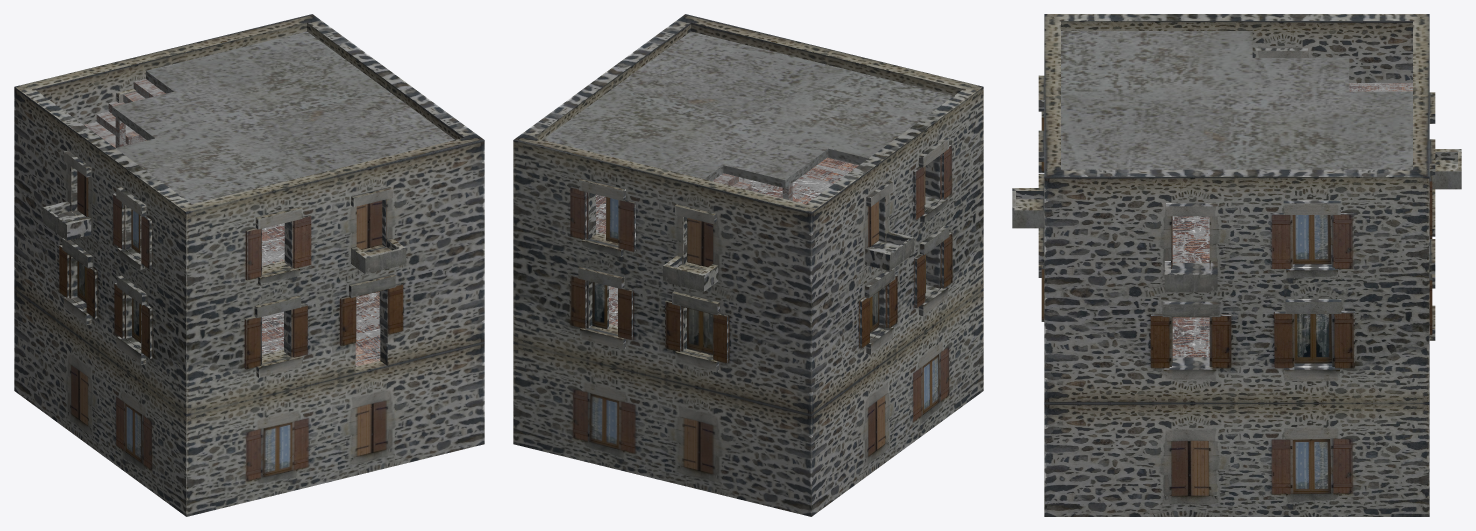
Rendered from BagBuilding15High.fbx.
3 renders of one model, left to right at view 1: azimuth 30°, elevation 25°; view 2: azimuth 150°, elevation 25°; view 3: azimuth 270°, elevation 25°, orthographic. The views are drawn at different scales.
Parts seen in each view (by area): view 1: main300, mainFlip300, roof300, stairs300; view 2: main300, mainFlip300, roof300, stairs300; view 3: mainFlip300, roof300, main300, stairs300.
Boxes of the visible parts, x1,y1,x2,y2 form: main300: [14, 14, 484, 516]; mainFlip300: [14, 22, 380, 516]; roof300: [112, 31, 454, 203]; stairs300: [84, 79, 380, 366]; main300: [513, 14, 983, 516]; mainFlip300: [596, 22, 983, 516]; roof300: [543, 31, 953, 187]; stairs300: [596, 157, 858, 325]; mainFlip300: [1044, 176, 1429, 516]; roof300: [1061, 31, 1412, 169]; main300: [1012, 14, 1461, 366]; stairs300: [1172, 83, 1412, 357].
Size of the model in its own units: 19.63 by 16.39 by 19.62.
